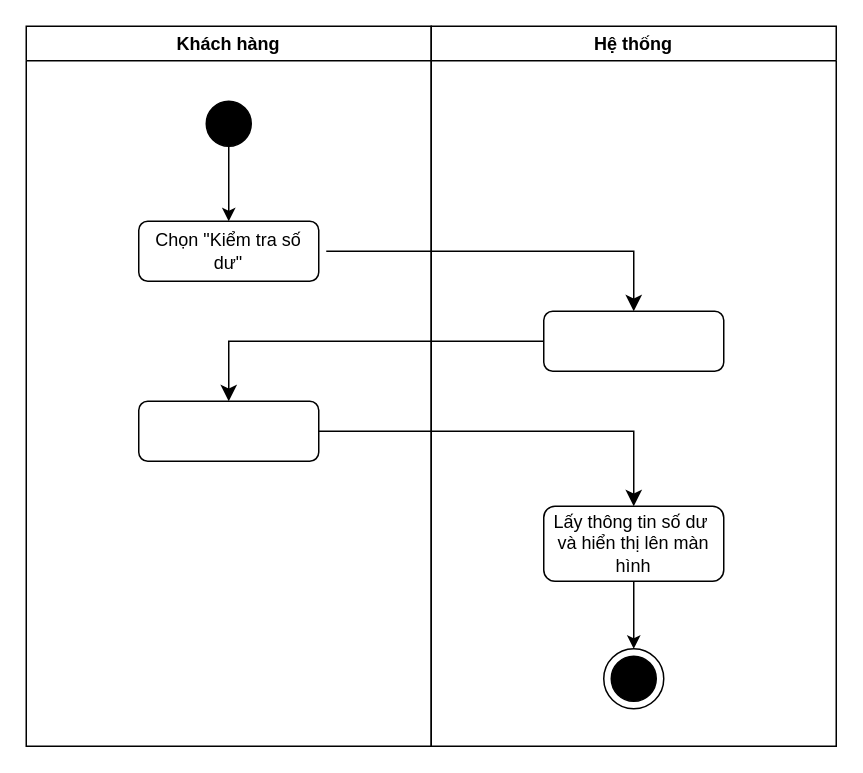
This 863x773 diagram has some shape labels left out. The centre of each missing label's shape, as x and y in pixels:
Chọn tài khoản: the point at 228,430
Hiển thị danh sách tài khoản: the point at 633,340
